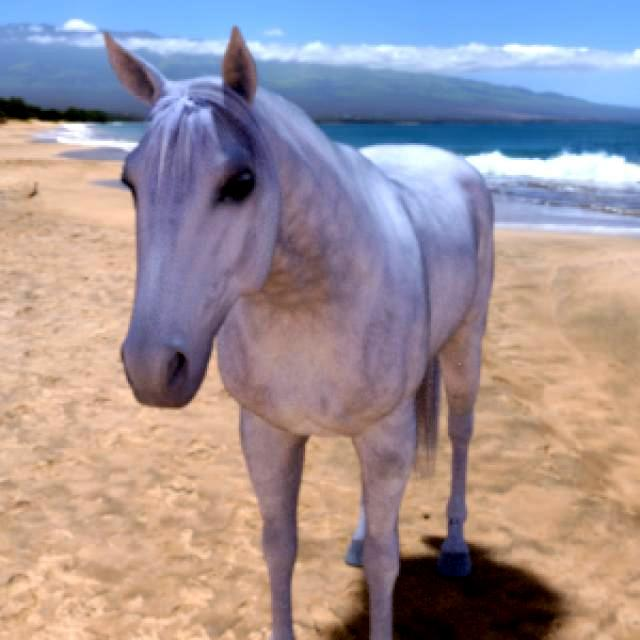horse: (106, 28, 492, 640)
